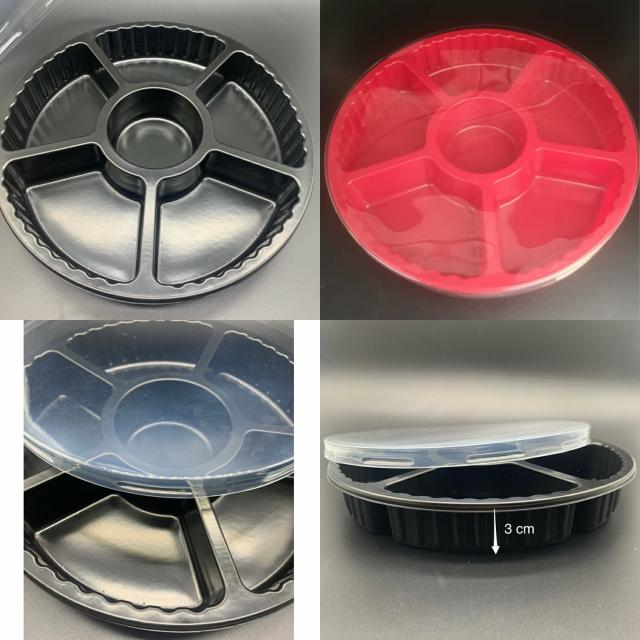Single-Use-Plastic: (1, 24, 312, 302), (326, 28, 639, 296), (25, 321, 294, 631), (329, 441, 636, 552), (324, 420, 590, 468)
